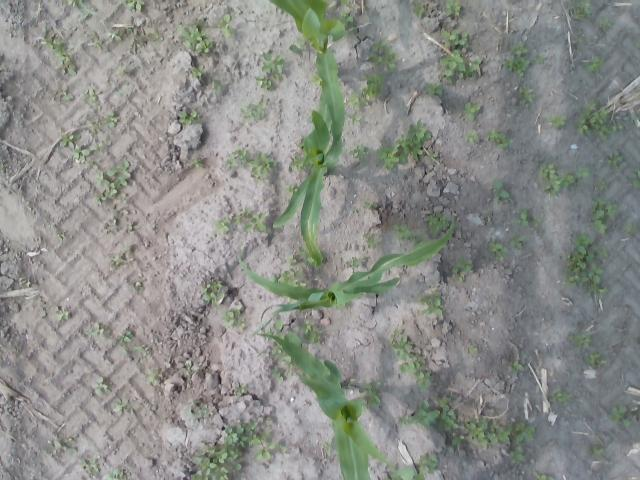Maize: (238, 217, 457, 336), (258, 332, 391, 480), (265, 0, 350, 159), (272, 84, 338, 269)
Weeds: (192, 422, 260, 480), (564, 233, 610, 298), (376, 119, 431, 170), (576, 99, 624, 140), (40, 26, 77, 76), (387, 328, 425, 376), (463, 415, 513, 448), (439, 49, 481, 87), (536, 162, 580, 196), (93, 161, 131, 196), (176, 19, 214, 53), (588, 195, 619, 236), (366, 39, 399, 74), (270, 339, 294, 382), (409, 398, 441, 428), (359, 73, 386, 106), (68, 142, 103, 167), (250, 152, 277, 183), (436, 396, 459, 431), (240, 96, 268, 124), (268, 268, 306, 288), (198, 280, 226, 307), (358, 379, 382, 408), (440, 28, 471, 50), (418, 290, 444, 316), (262, 52, 286, 80), (220, 308, 247, 332), (380, 467, 426, 480), (300, 318, 322, 345), (254, 432, 275, 460), (451, 256, 473, 282), (514, 208, 542, 228), (426, 211, 450, 234), (348, 142, 369, 168), (225, 148, 252, 168), (108, 245, 133, 266), (491, 179, 512, 204), (417, 453, 439, 476), (461, 100, 484, 122), (216, 13, 236, 38), (504, 57, 530, 76), (486, 129, 513, 147), (609, 404, 631, 426), (513, 422, 536, 443), (49, 436, 77, 453), (338, 9, 357, 34), (176, 108, 202, 126), (186, 399, 208, 420), (570, 0, 592, 21), (264, 318, 284, 340), (245, 212, 267, 232), (414, 370, 434, 392), (111, 397, 136, 414), (92, 376, 112, 397), (604, 150, 624, 171), (487, 241, 507, 262), (108, 26, 134, 42), (81, 456, 101, 476), (254, 73, 276, 91), (582, 55, 604, 73), (567, 332, 591, 348), (582, 352, 606, 368), (288, 153, 308, 172), (298, 245, 316, 266), (145, 368, 164, 386), (517, 87, 535, 106), (181, 358, 200, 376), (392, 222, 412, 239), (60, 132, 81, 148), (288, 36, 306, 54), (444, 0, 462, 18), (508, 232, 526, 250), (284, 331, 303, 348), (104, 467, 128, 480), (86, 322, 110, 335), (550, 390, 572, 404), (213, 216, 230, 234), (343, 92, 360, 110), (58, 83, 74, 102), (548, 112, 567, 128), (121, 0, 146, 12), (364, 232, 381, 249), (54, 304, 71, 321), (102, 110, 120, 126), (83, 85, 99, 103), (412, 0, 427, 19), (587, 444, 606, 458), (509, 42, 528, 56), (346, 255, 366, 268), (233, 208, 249, 224), (426, 82, 444, 96), (116, 330, 135, 343), (510, 445, 524, 462), (133, 343, 150, 357), (188, 63, 205, 77), (629, 167, 640, 188), (86, 38, 105, 50), (508, 359, 524, 373), (212, 78, 226, 94), (598, 16, 612, 32), (347, 110, 362, 124), (464, 129, 480, 142), (86, 119, 99, 134), (412, 232, 428, 244), (310, 70, 322, 86), (427, 148, 439, 164), (575, 166, 591, 178), (146, 31, 163, 42), (534, 471, 554, 480), (451, 434, 465, 446), (132, 278, 144, 292), (62, 0, 85, 7), (630, 404, 640, 420), (622, 222, 638, 232), (234, 383, 247, 395), (285, 183, 298, 195), (93, 194, 106, 205), (396, 414, 408, 425), (80, 7, 92, 18), (287, 253, 297, 265), (298, 137, 306, 152), (536, 54, 548, 64), (468, 344, 479, 354), (278, 443, 288, 454), (191, 158, 203, 167), (114, 64, 126, 73), (599, 180, 608, 191), (363, 200, 373, 209), (55, 232, 64, 240), (324, 440, 330, 450), (306, 115, 312, 123), (263, 418, 270, 424), (636, 41, 640, 48), (0, 162, 4, 168)
